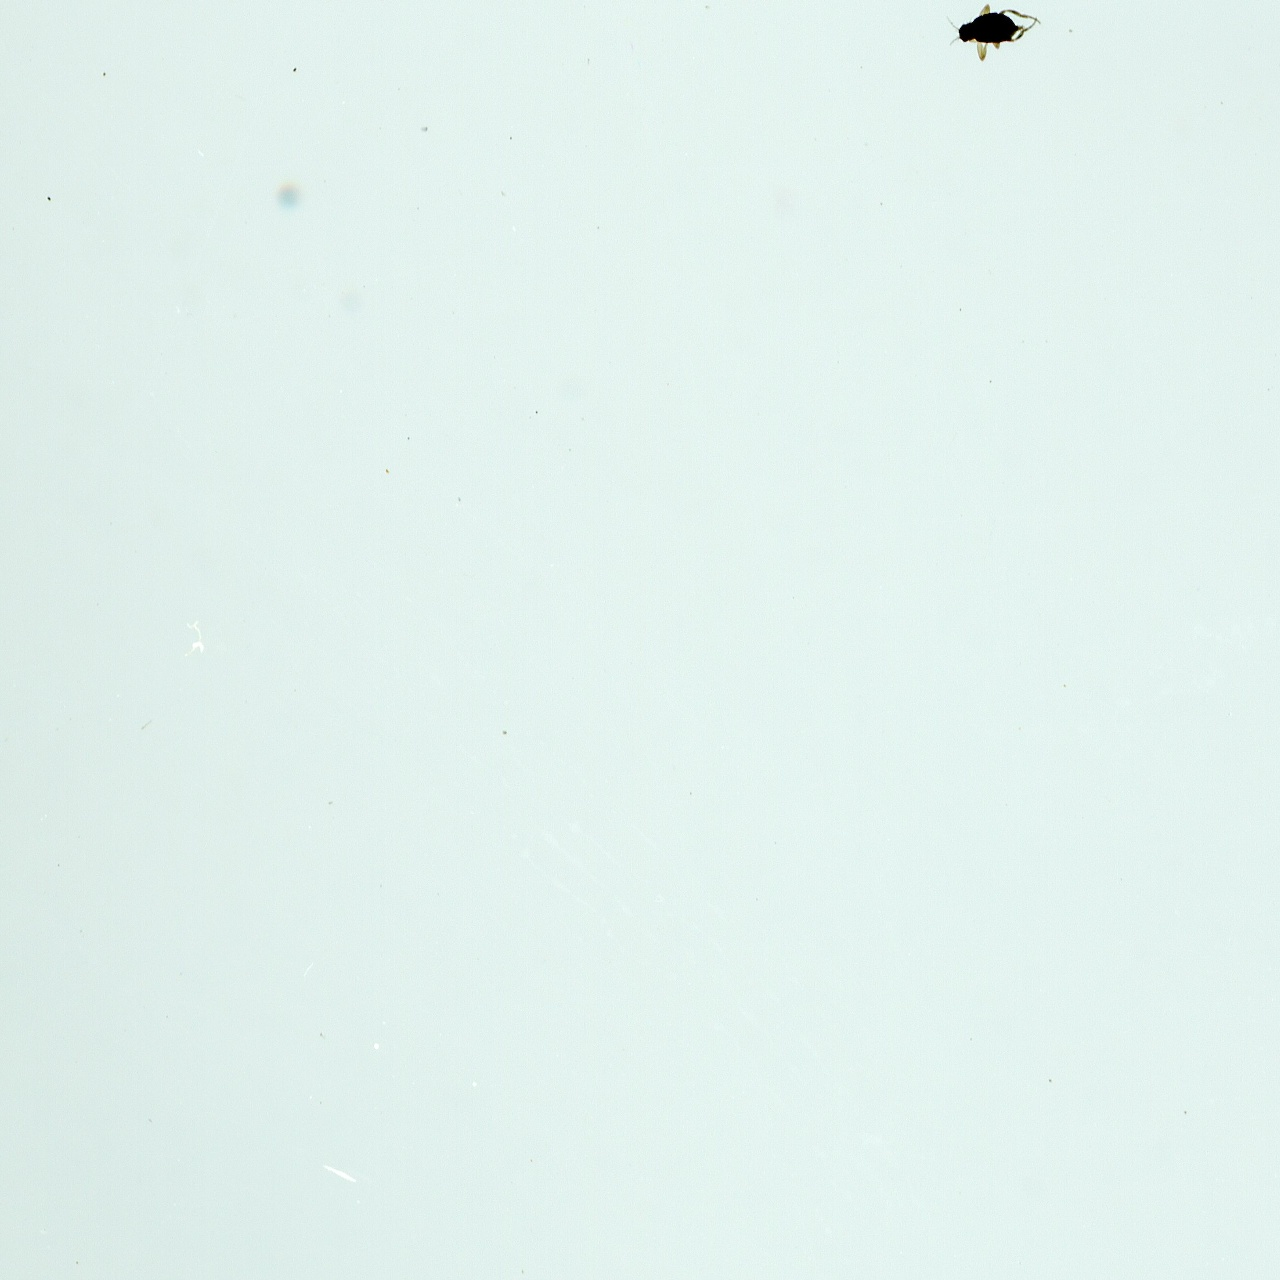arthropod: (940, 1, 1044, 62)
